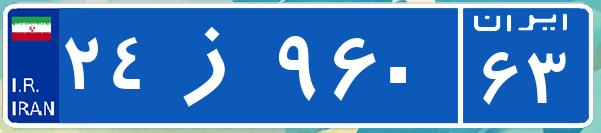0: (385, 28, 445, 110)
2: (57, 26, 110, 107)
3: (525, 38, 570, 115)
4: (110, 28, 158, 105)
6: (330, 28, 385, 110), (475, 38, 525, 113)
9: (273, 28, 330, 110)
ز: (158, 15, 273, 115)
